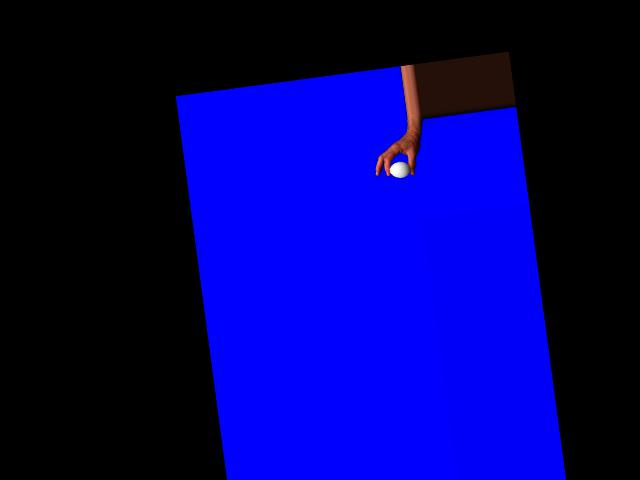egg: (388, 160, 411, 179)
